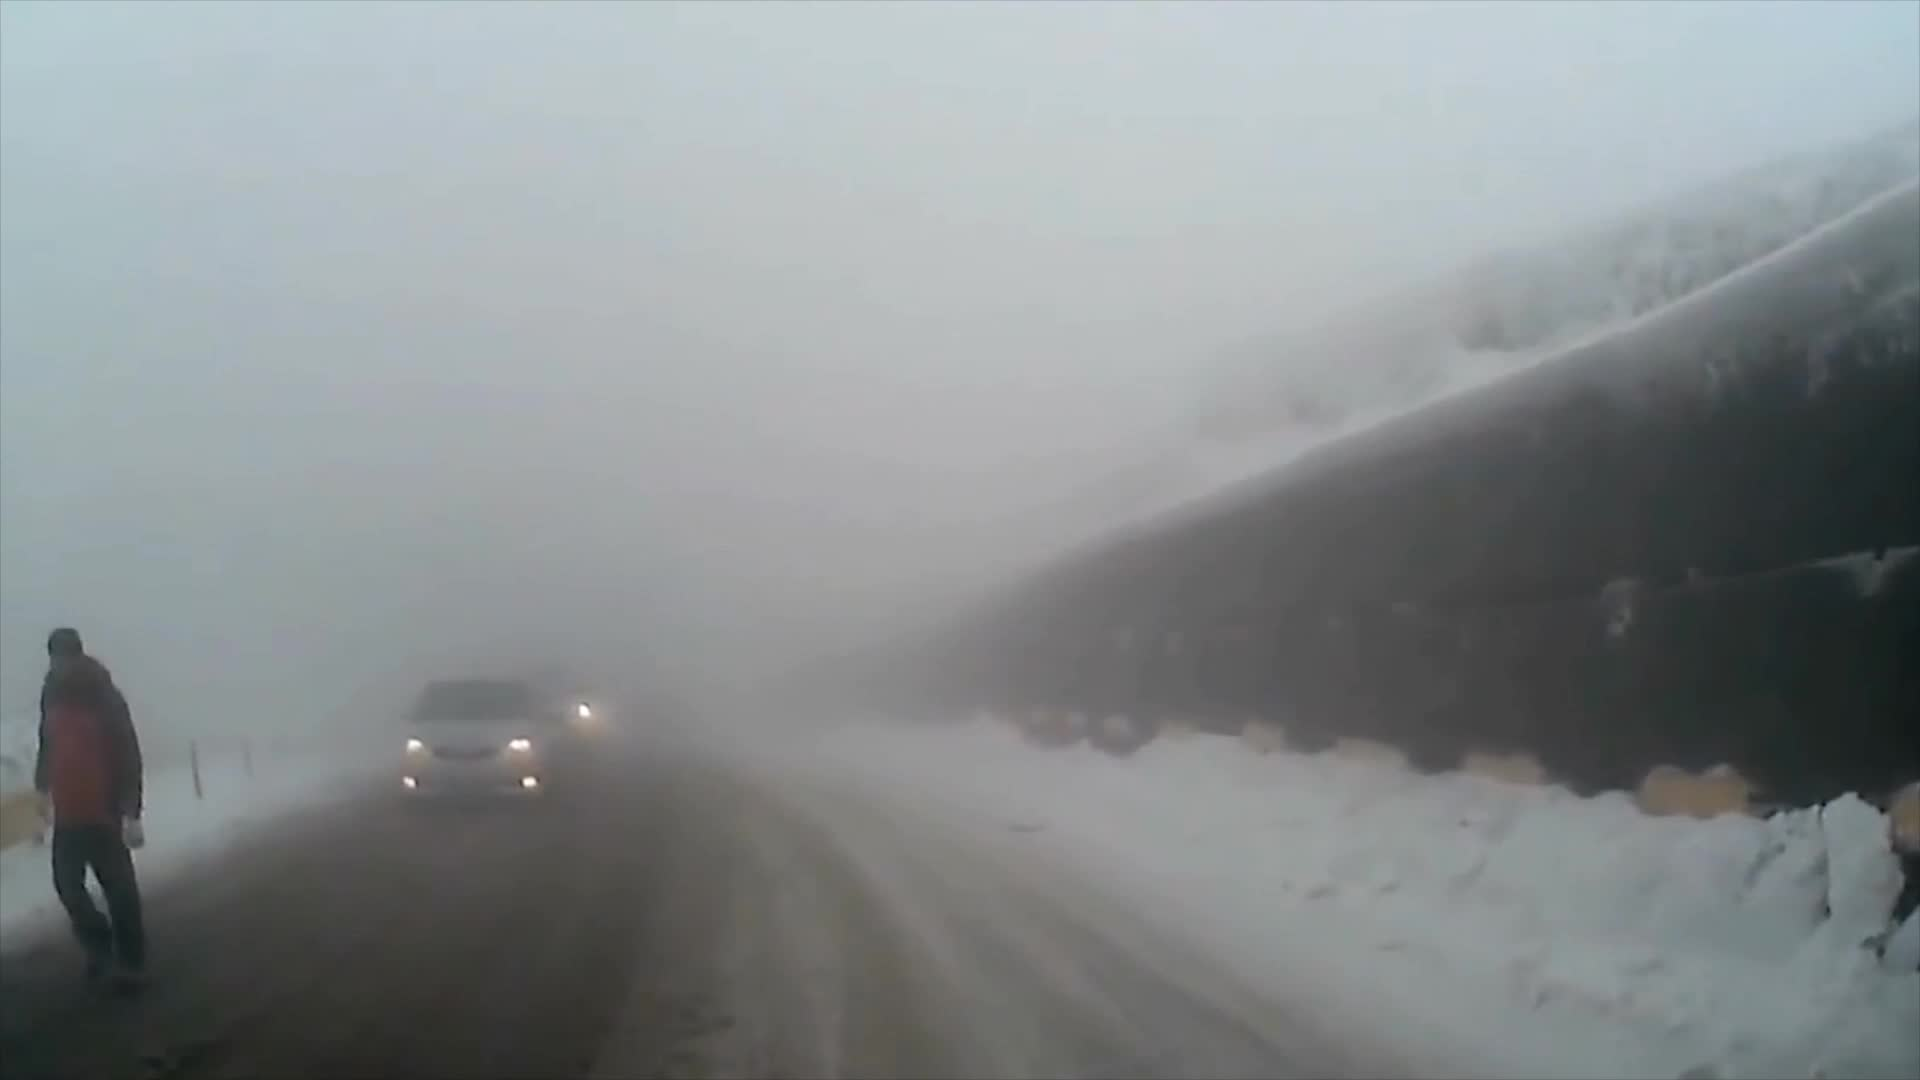pedestrian: (24, 629, 148, 991)
vehicle: (389, 676, 563, 814)
